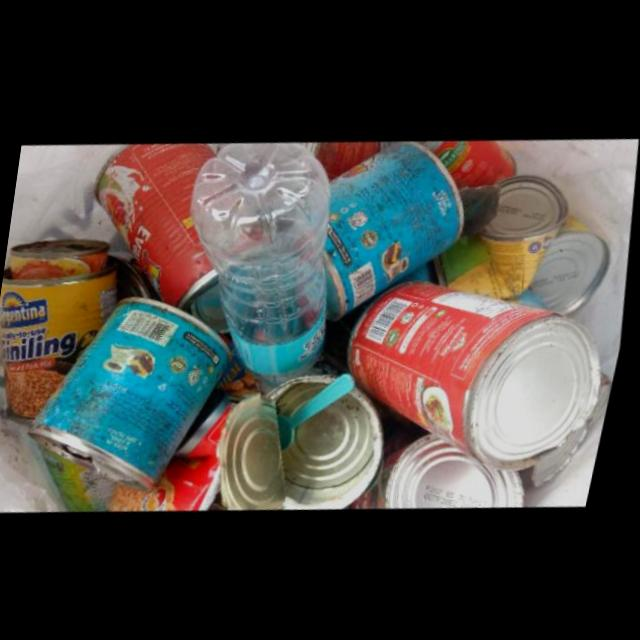chai_nhua_pet: (195, 141, 334, 383)
nhom: (354, 280, 608, 472), (36, 294, 240, 490), (99, 141, 235, 333), (328, 141, 469, 320), (3, 235, 127, 418), (229, 373, 391, 510), (439, 176, 571, 299), (359, 434, 532, 510), (533, 220, 614, 315)
